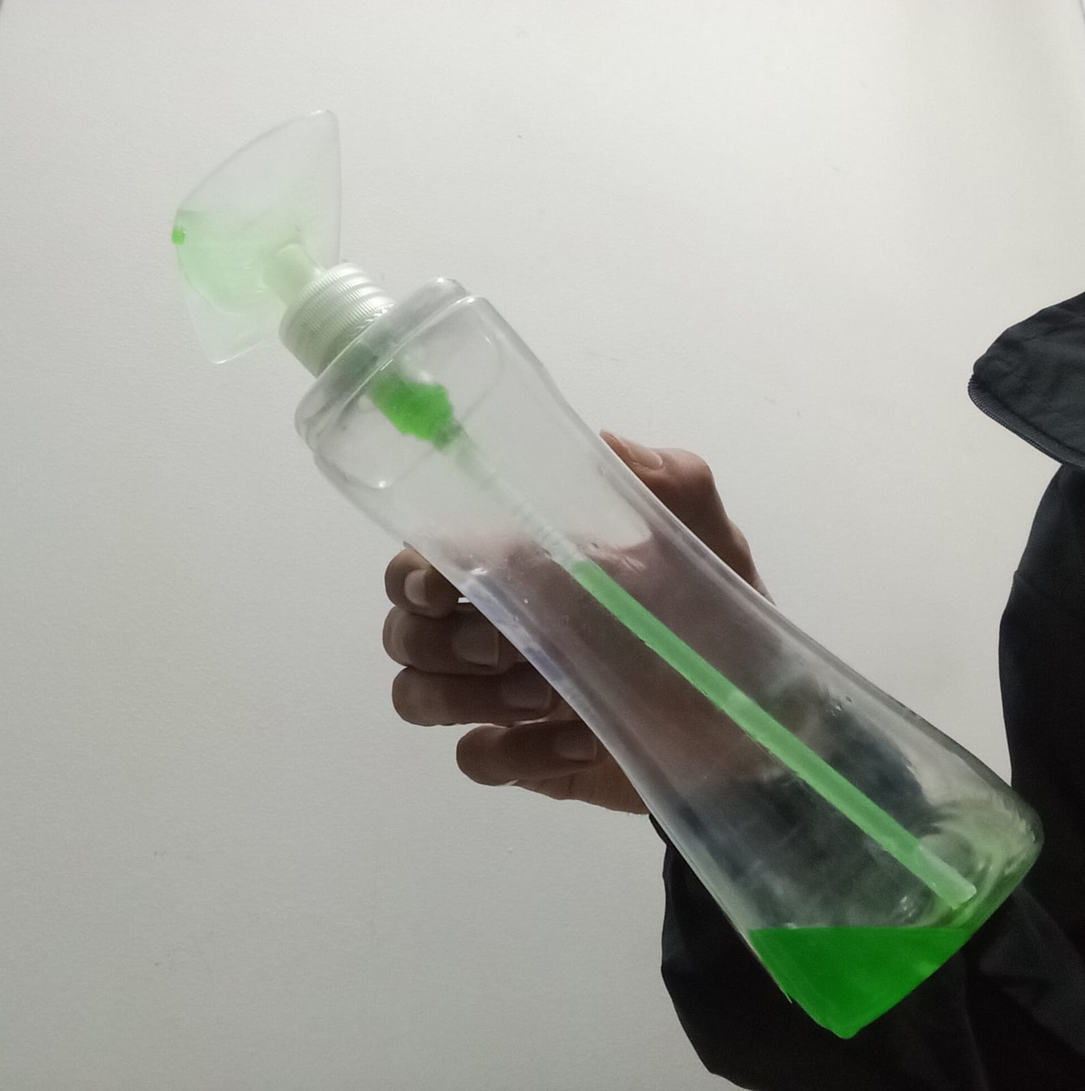Plastico: (171, 107, 1043, 1039)
